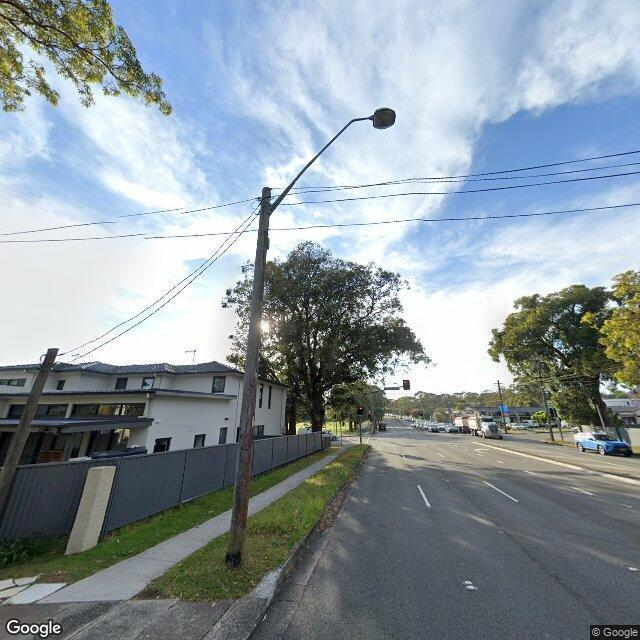crossarm: (493, 383, 503, 384)
steel-pole: (358, 416, 364, 444)
streetlight: (268, 107, 397, 215)
timber-pole: (225, 187, 271, 567), (0, 348, 60, 510), (538, 369, 554, 441), (497, 380, 507, 433)
traffic-light: (356, 404, 364, 416), (403, 379, 411, 390)
